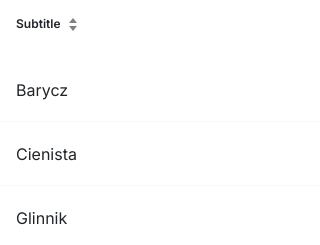
Test: ListItems.vue › sorts items when sortable is true
Step 1. Click the heading with test id "sort" → [46, 24], box [16, 16, 77, 31]
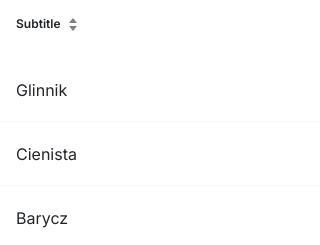
expect the list item with test id "list-item" reads "Glinnik": met, box [16, 80, 67, 100]
Step 2. Click the heading with test id "sort" → [46, 24], box [16, 16, 77, 31]
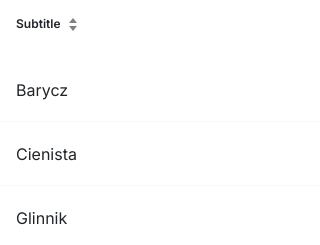
expect the list item with test id "list-item" reads "Barycz": met, box [16, 80, 68, 100]
